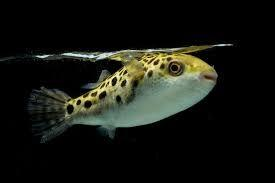Green Spotted Puffer: (32, 52, 218, 144)
